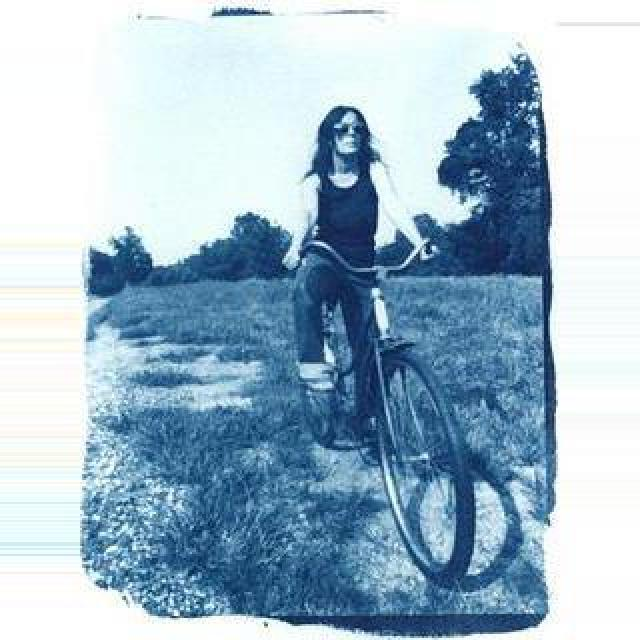MC-Bike: (288, 106, 392, 438)
Person: (293, 245, 481, 571)
